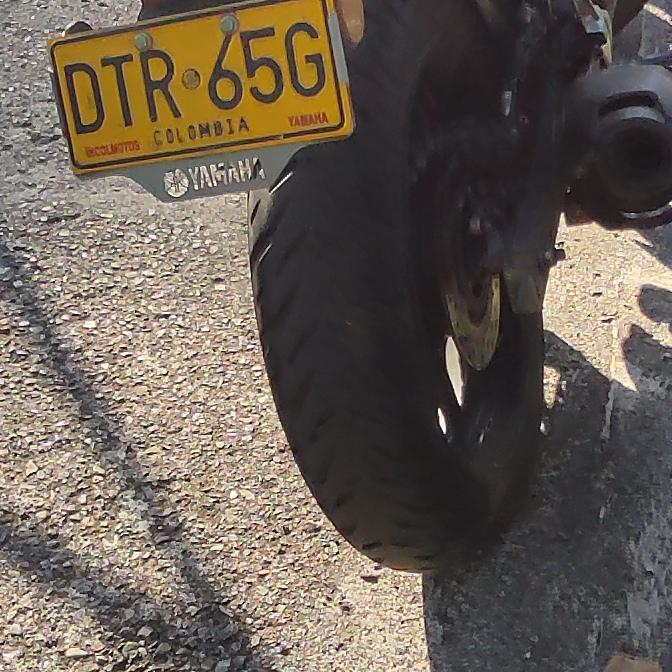plates: (34, 0, 343, 175)
